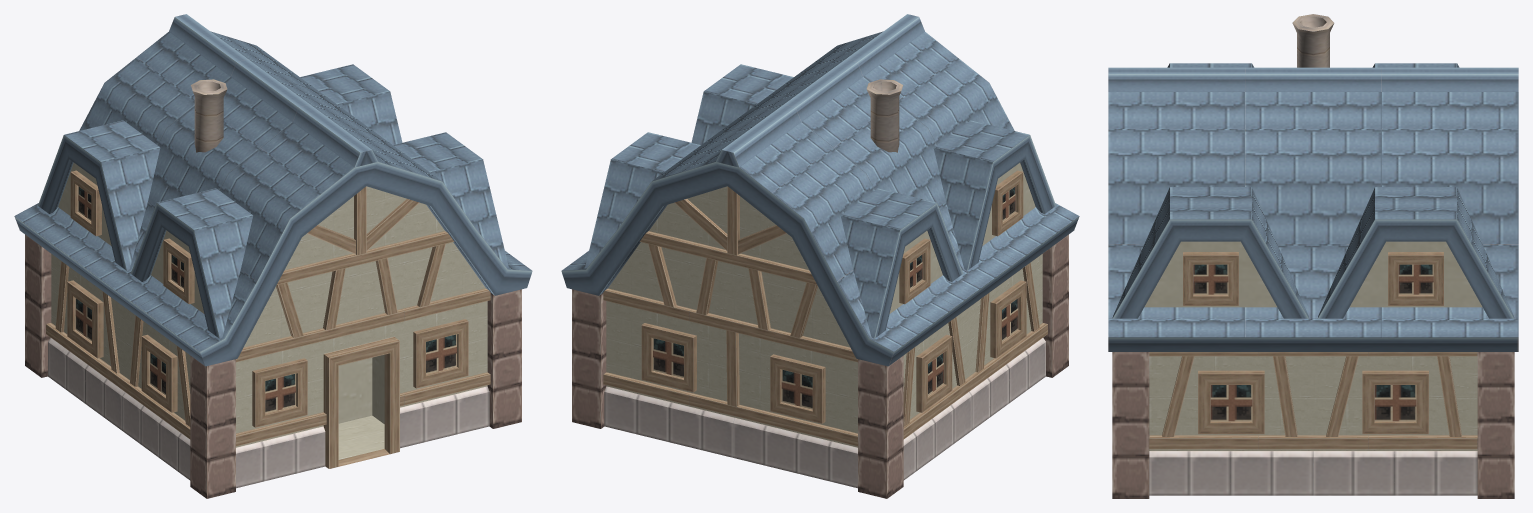
Rendered from Private Dwelling 2 - M.fbx.
3 views of the same model, side by side, from view 1: azimuth 30°, elevation 25°; view 2: azimuth 150°, elevation 25°; view 3: azimuth 270°, elevation 25° (orthographic). The views are drawn at different scales.
Visible parts, largest first — view 1: Bd_012; view 2: Bd_012; view 3: Bd_012.
Boxes of the visible parts, x1,y1,x2,y2 form: Bd_012: (14,14,532,498); Bd_012: (561,14,1079,498); Bd_012: (1108,14,1518,498).
Size of the model in its own units: 5.17 by 4.8 by 5.
